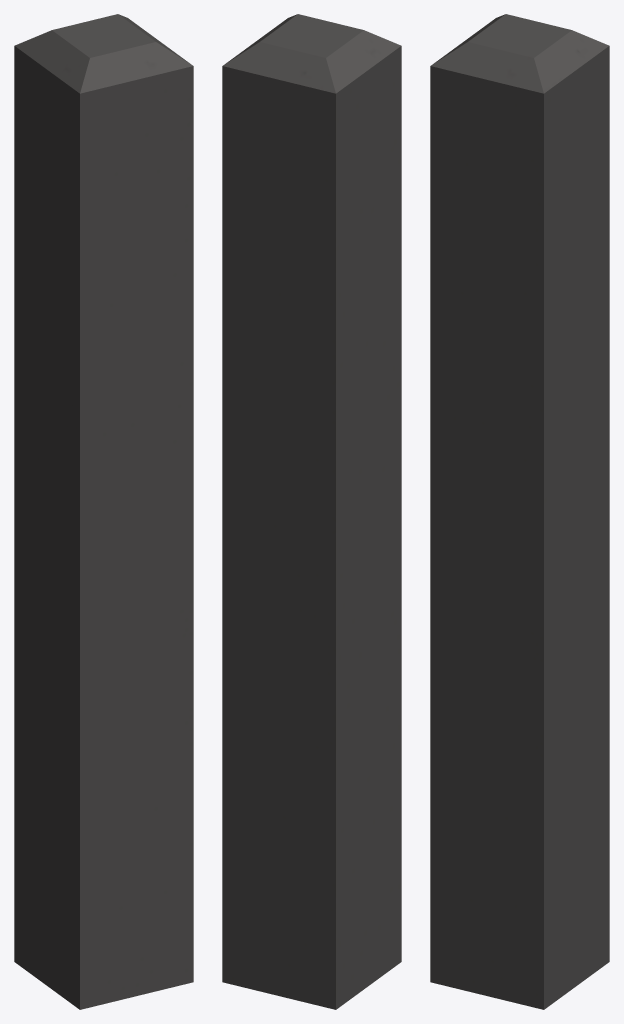
File: Concrete_Wall_Tower.fbx
3 views of the same model, side by side, from view 1: azimuth 30°, elevation 25°; view 2: azimuth 150°, elevation 25°; view 3: azimuth 330°, elevation 25° (orthographic).
Visible parts, largest first — view 1: Tower_Concrete; view 2: Tower_Concrete; view 3: Tower_Concrete.
Part boxes in pixels (bbox=[...]): Tower_Concrete: bbox=[14, 14, 193, 1009]; Tower_Concrete: bbox=[222, 14, 401, 1009]; Tower_Concrete: bbox=[430, 14, 609, 1009].
Size of the model in its own units: 1.65 by 13.03 by 1.65.
